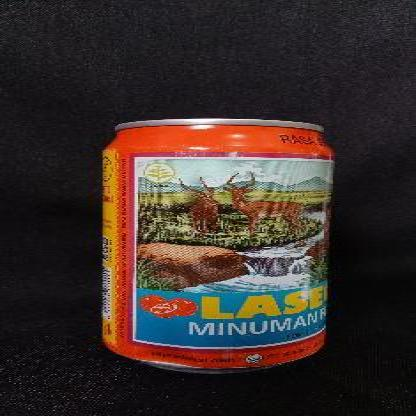alumunium_can: (101, 118, 336, 374)
